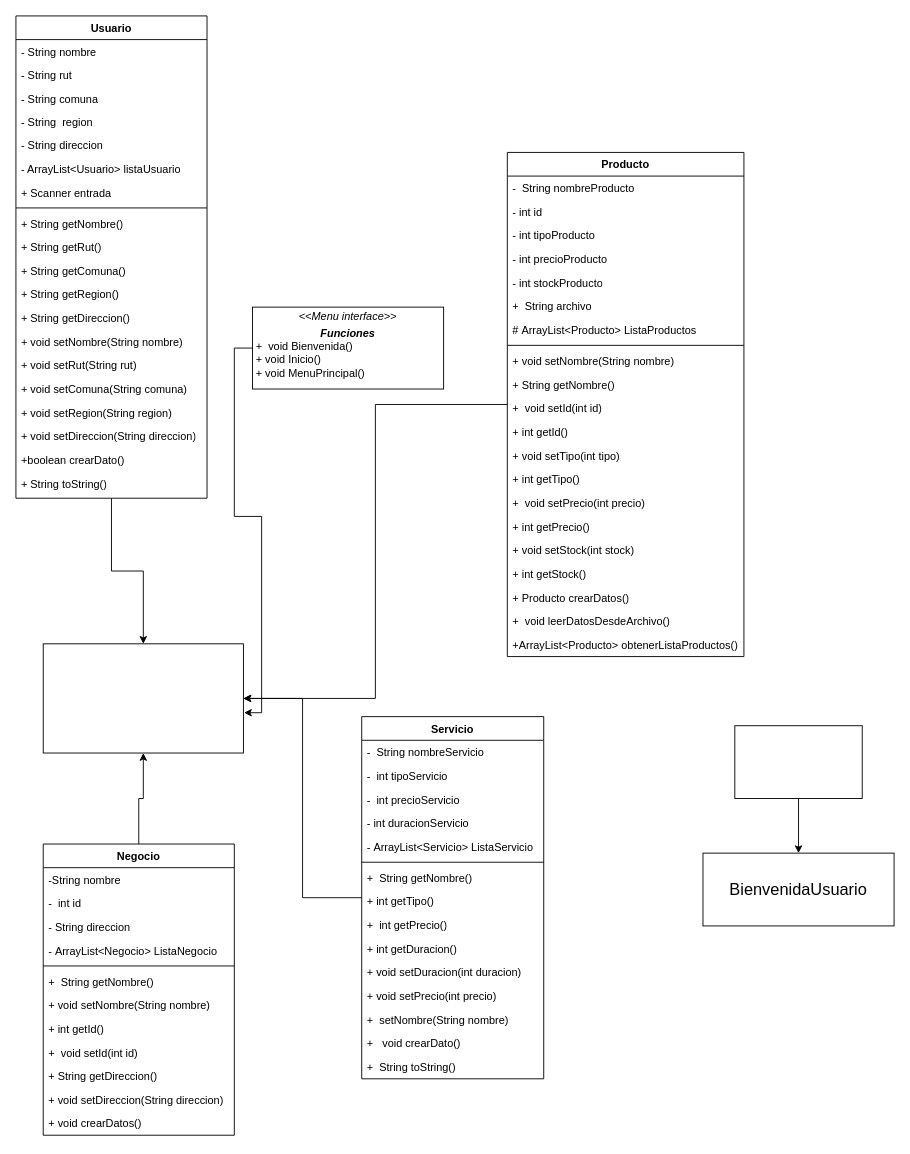
Image size: 910x1154. Some labels were removed from this diagram. The box of each missing label's shape, as (x1, y1, x2, y2) in pixels:
InicioSesion: (734, 725, 862, 799)
Principal void main(String[] args): (42, 643, 243, 753)
